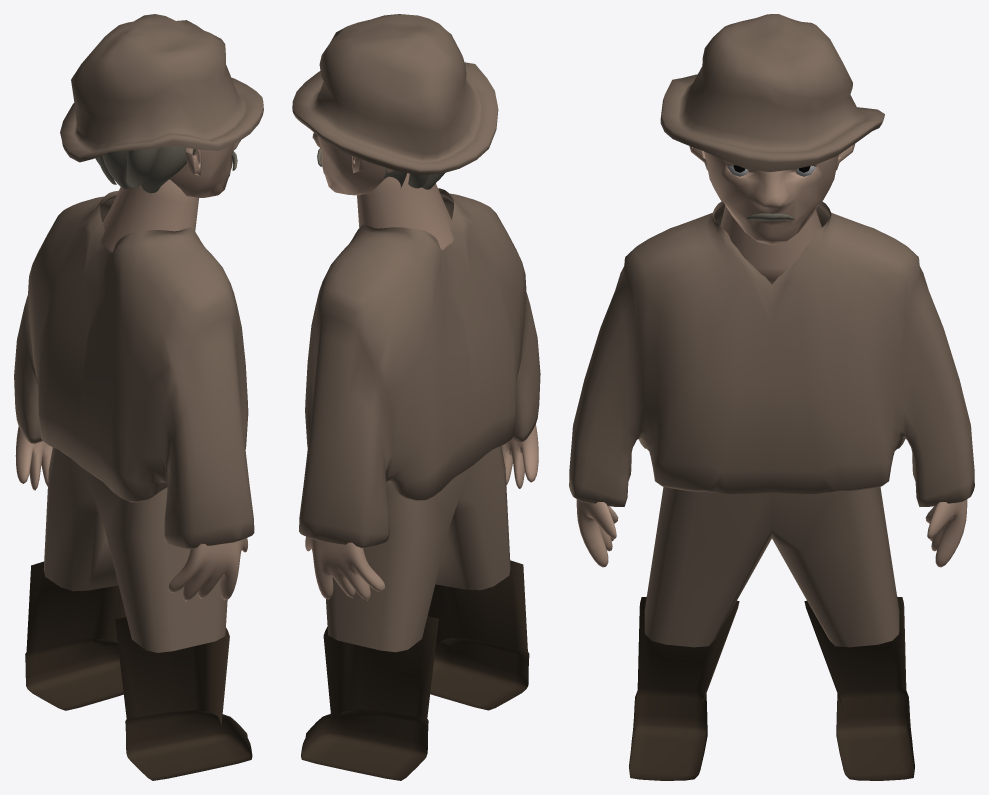
The model's file is character3.fbx.
The picture shows the model from 3 angles, left to right: view 1: azimuth 30°, elevation 25°; view 2: azimuth 150°, elevation 25°; view 3: azimuth 270°, elevation 25°; orthographic projection. The views are drawn at different scales.
Parts seen in each view (by area): view 1: Cube.046, Cube.045, Sphere.010, Cube.044, Cube.043, Cylinder.006, Object_low.005, NurbsPath.020, NurbsPath.025, NurbsPath.024; view 2: Cube.046, Cube.045, Sphere.010, Cube.044, Cube.043, Cylinder.006, Object_low.005; view 3: Cube.046, Cube.044, Sphere.010, Cube.045, Object_low.005, Cube.043, Cylinder.006.
Part boxes in pixels (box(x1,y1,x2,y2)): Cube.046: box(14, 190, 254, 549); Cube.045: box(25, 561, 252, 780); Sphere.010: box(60, 14, 263, 162); Cube.044: box(43, 447, 227, 652); Cube.043: box(15, 426, 247, 601); Cylinder.006: box(100, 179, 198, 252); Object_low.005: box(170, 140, 240, 198); NurbsPath.020: box(141, 145, 196, 193); NurbsPath.025: box(125, 147, 160, 187); NurbsPath.024: box(102, 150, 129, 189); Cube.046: box(299, 188, 540, 548); Cube.045: box(301, 560, 529, 780); Sphere.010: box(292, 14, 498, 175); Cube.044: box(326, 445, 510, 652); Cube.043: box(305, 424, 538, 600); Cylinder.006: box(357, 173, 453, 249); Object_low.005: box(312, 132, 393, 195); Cube.046: box(569, 201, 974, 506); Cube.044: box(644, 486, 899, 647); Sphere.010: box(660, 14, 884, 172); Cube.045: box(629, 596, 914, 780); Object_low.005: box(704, 151, 838, 245); Cube.043: box(576, 499, 967, 567); Cylinder.006: box(720, 205, 821, 284).
Size of the model in its own units: 44.71 by 167 by 83.43.
